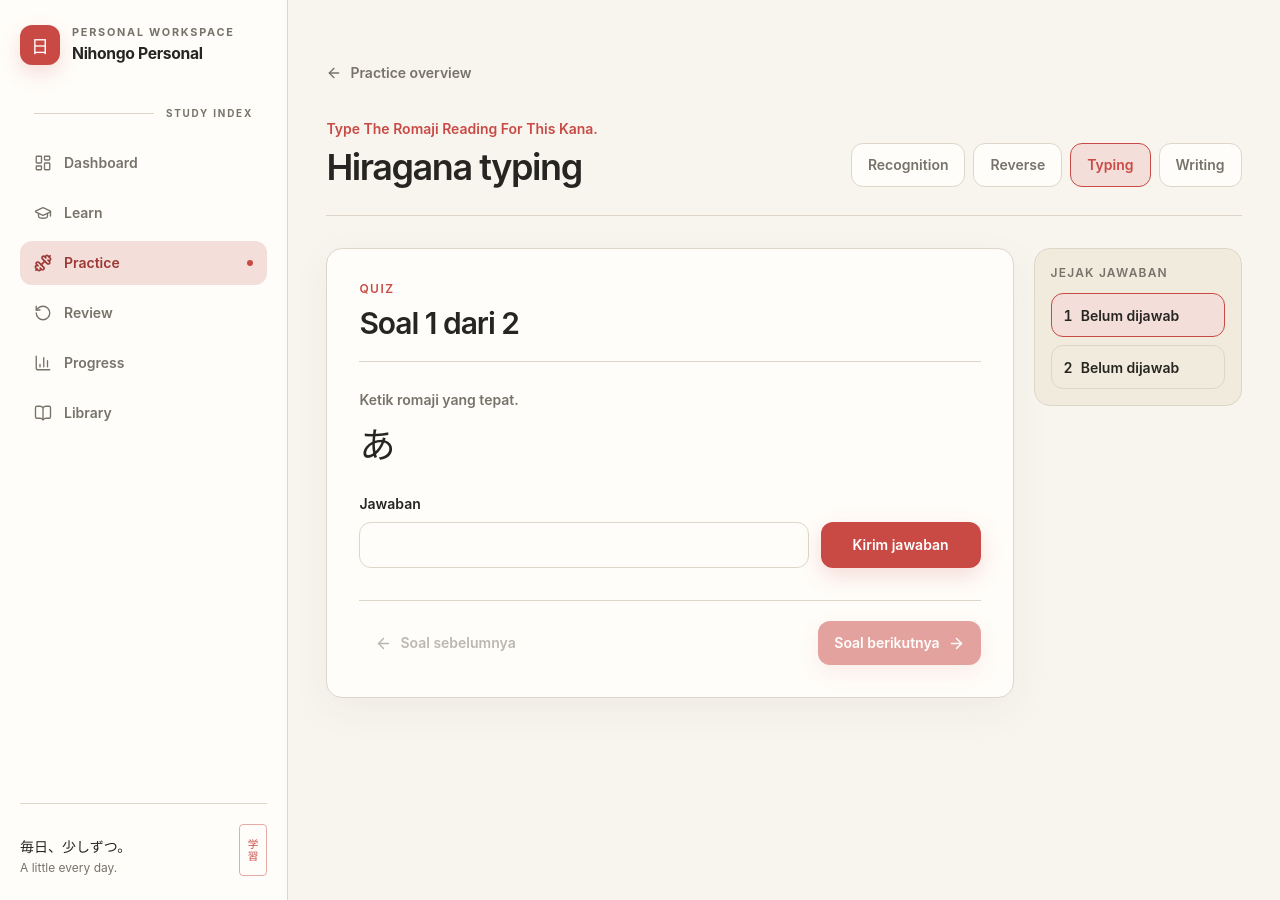
Test: Kana practice › runs typing through the shared session with locked feedback and navigation
Type "a" into the field labelled "Jawaban" at coordinates (584, 545), box [359,522,809,568]
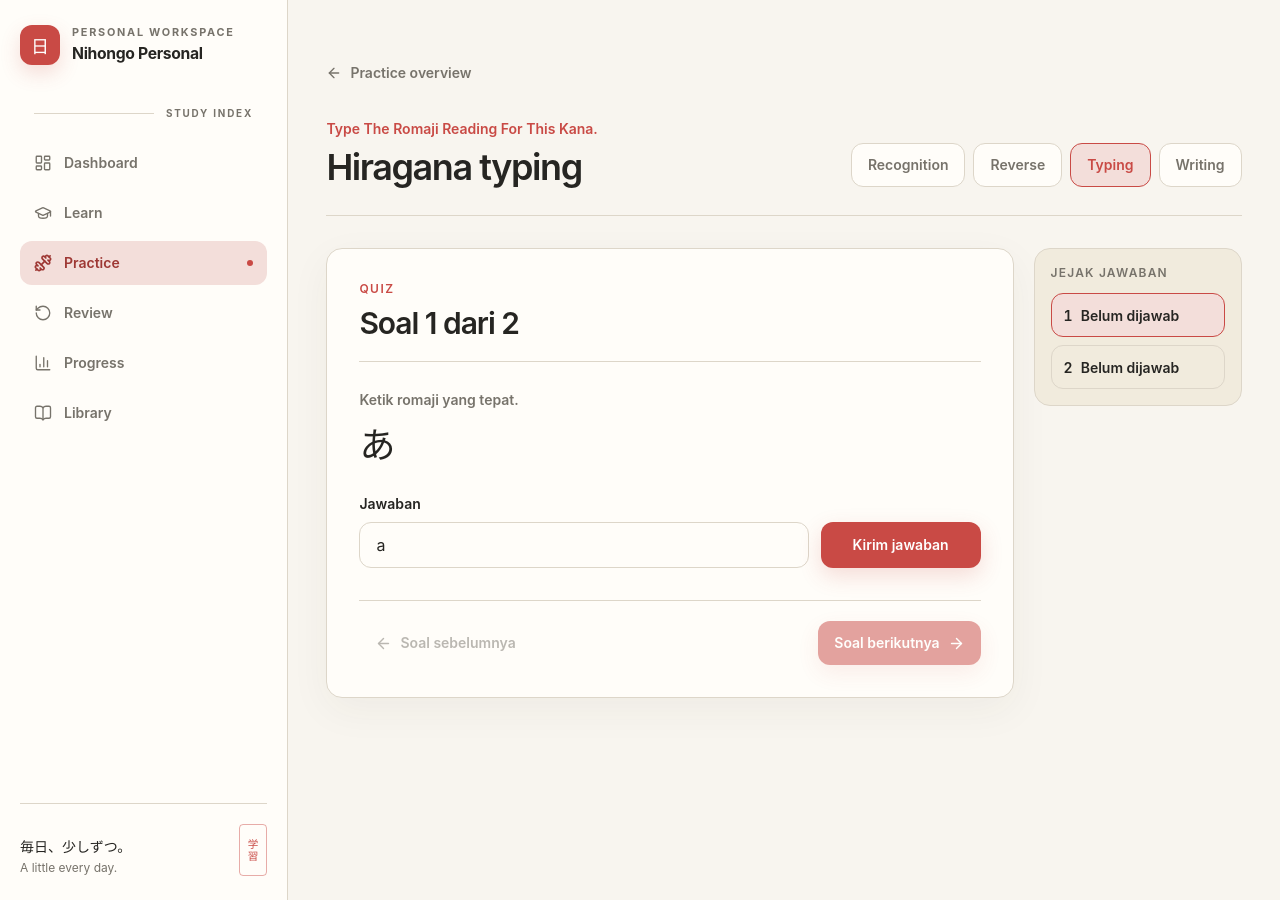
Click the button "Kirim jawaban" at coordinates (901, 545), box [821,522,981,568]
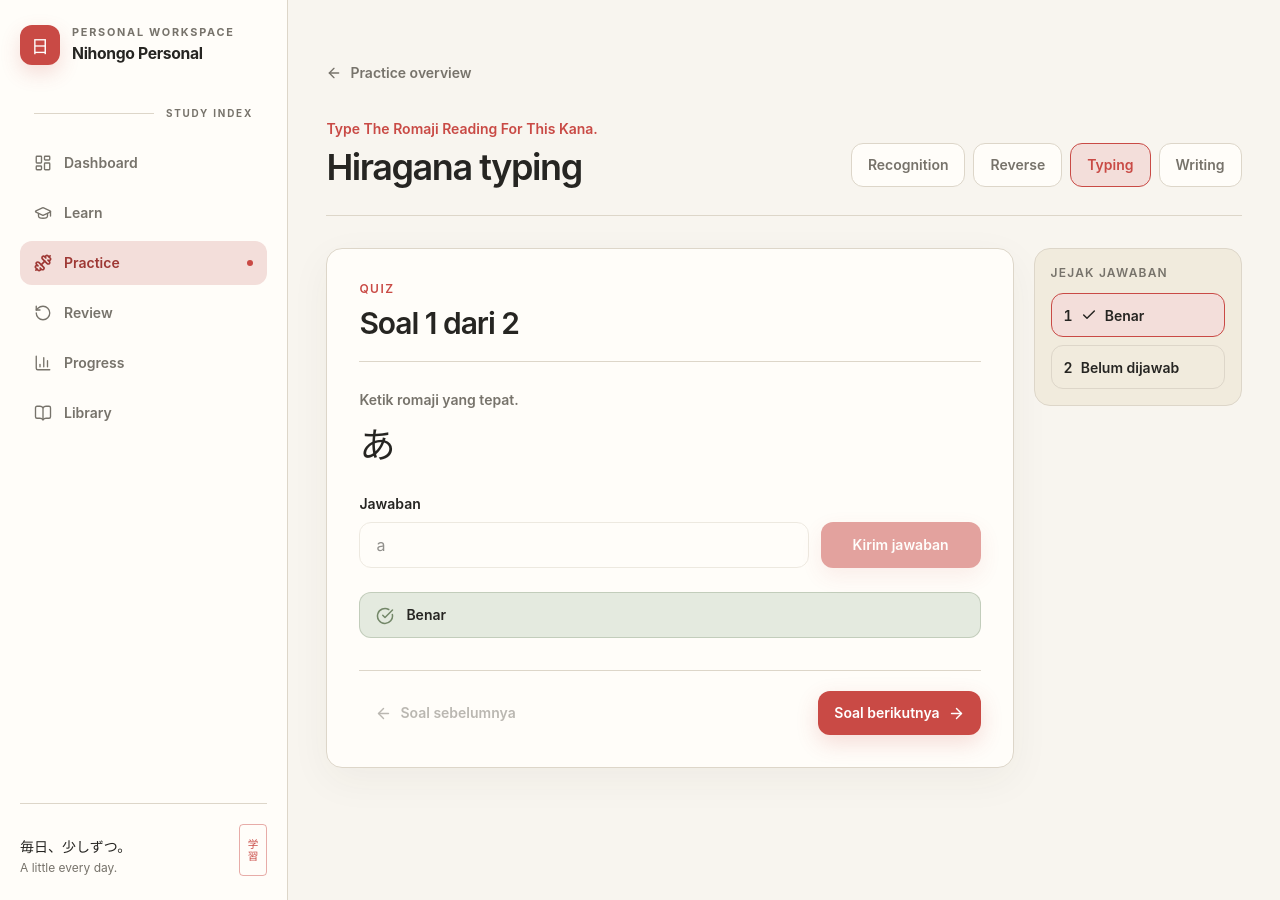
Expected: the message reads "Benar", [406,606,446,623]
Expected: the field labelled "Jawaban" is disabled, [359,522,809,568]
Click the button "Soal berikutnya" at coordinates (899, 713), box [818,691,981,735]
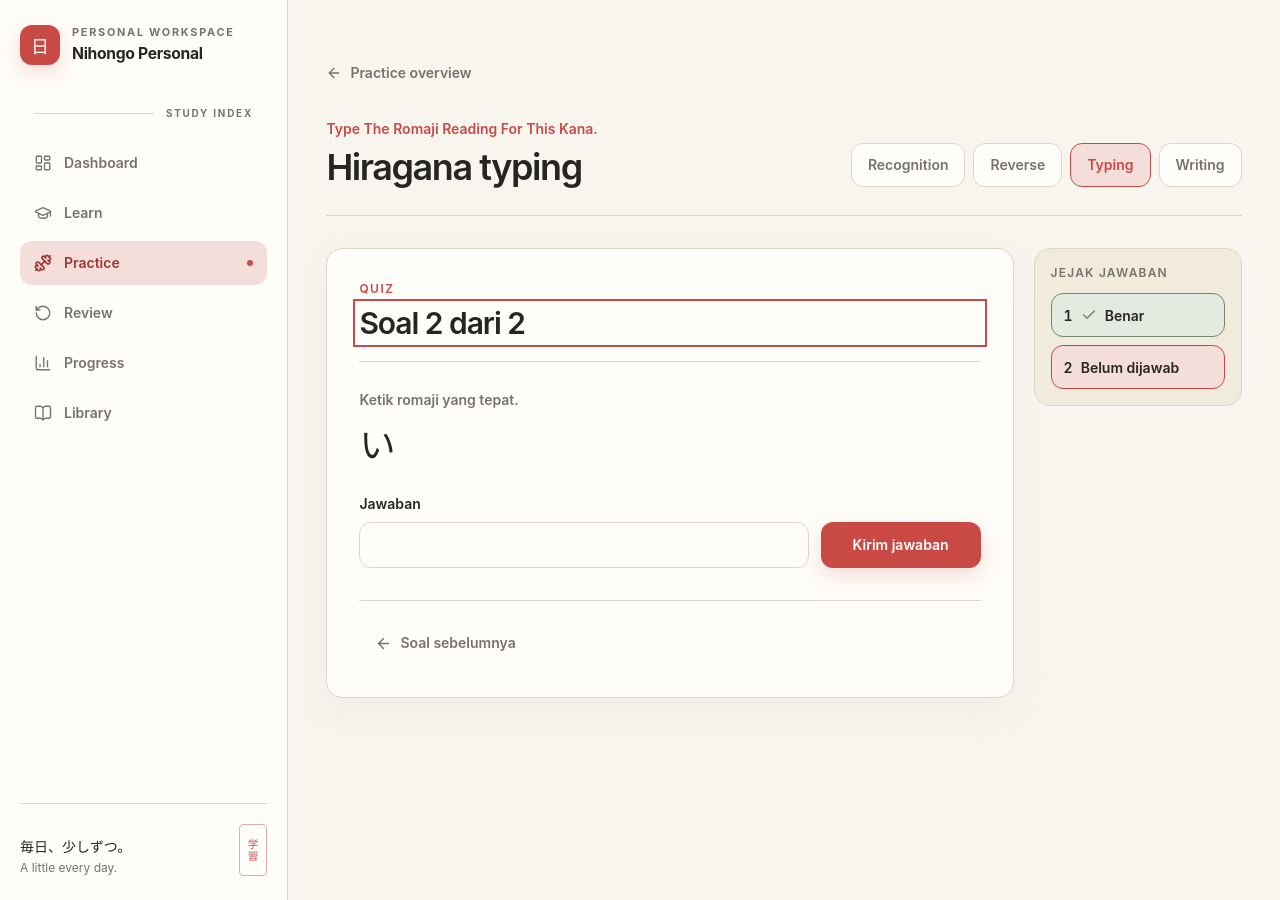
Expected: the heading "い" is shown, [359,416,394,468]
